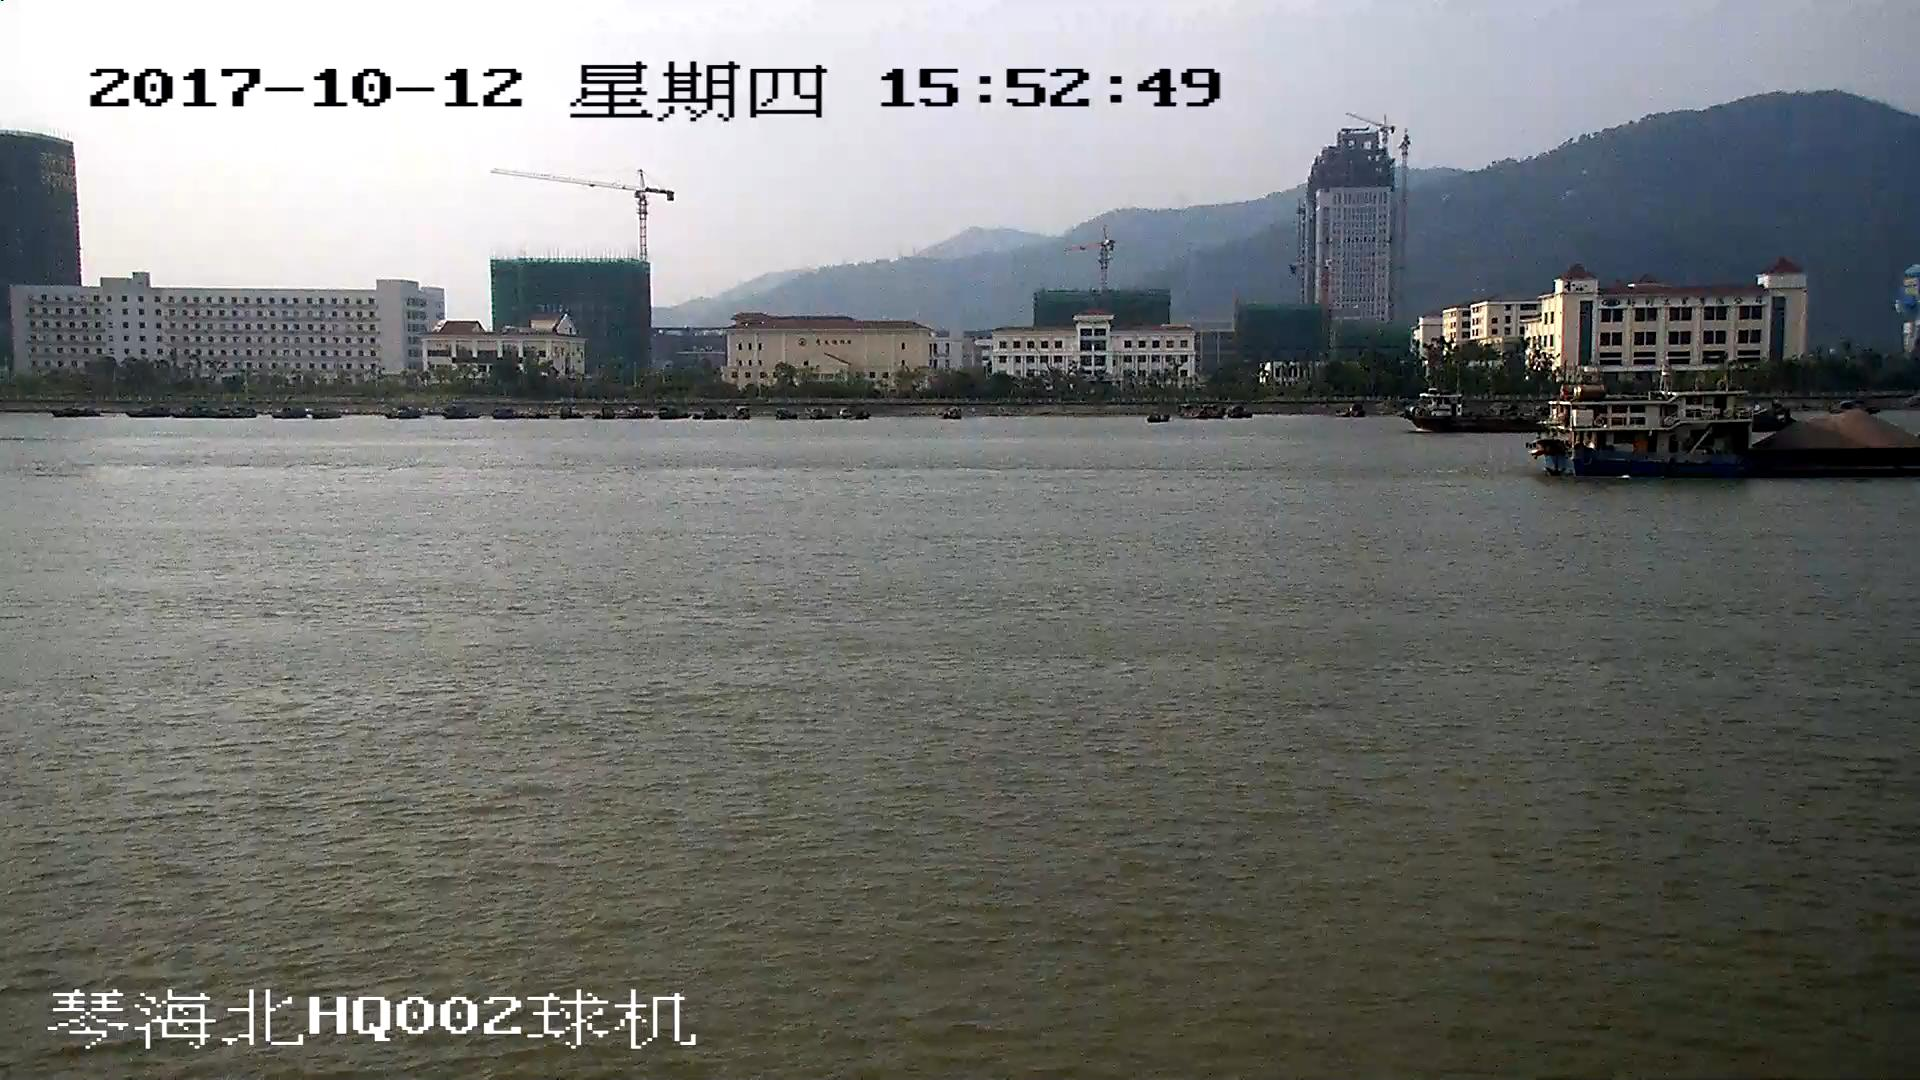ore carrier: (1543, 389, 1920, 475)
